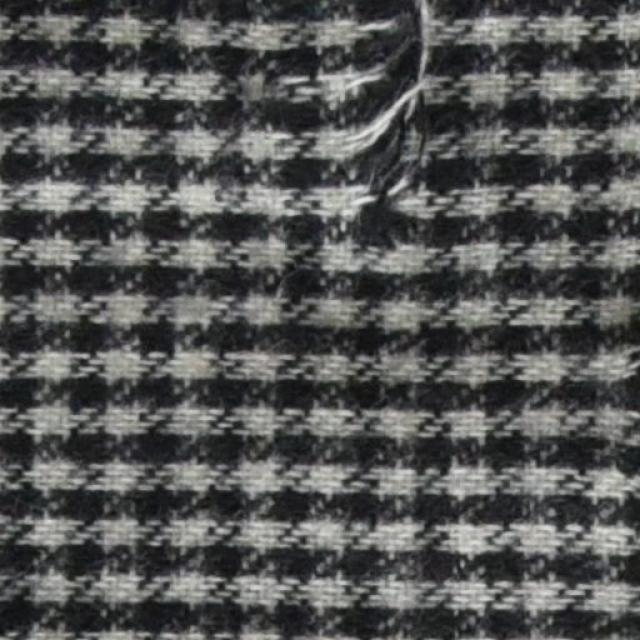Snag: (304, 1, 480, 260)
